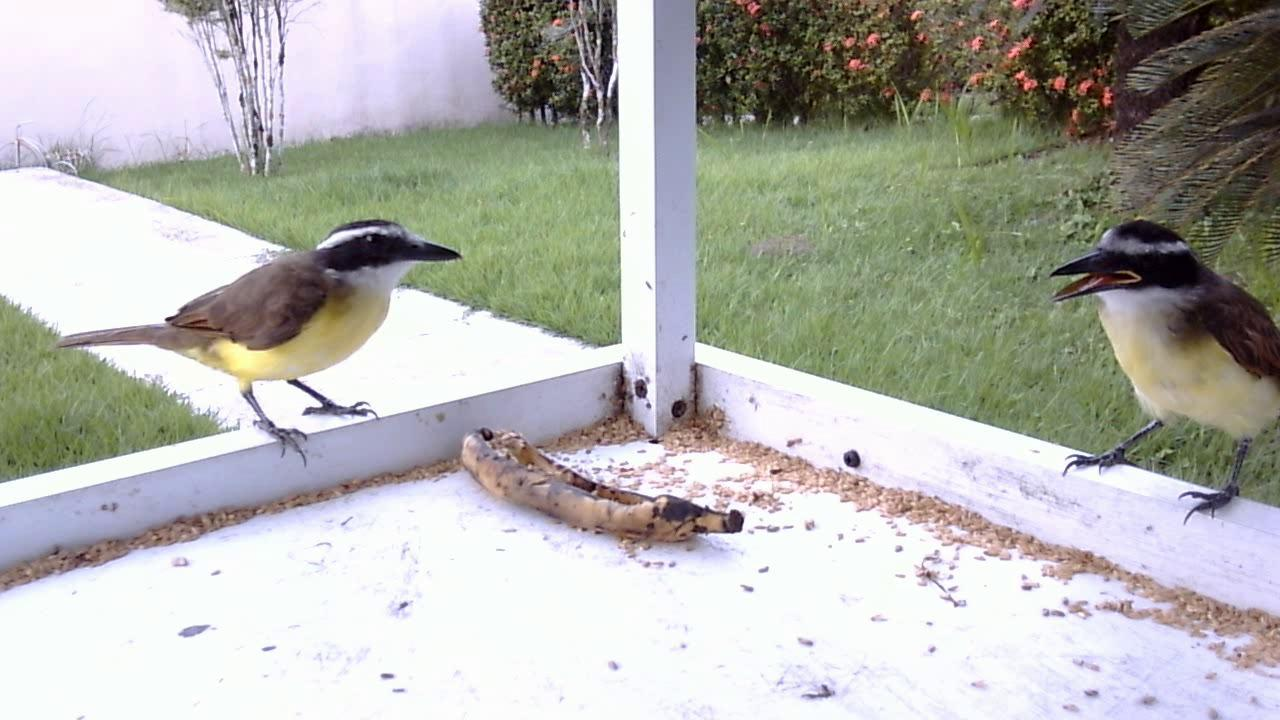bem_te_vi: (34, 211, 471, 468), (1038, 197, 1280, 540)
